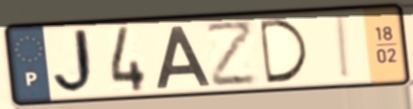4: (108, 23, 150, 96)
A: (154, 23, 213, 91)
D: (256, 17, 312, 86)
I: (335, 13, 354, 82)
J: (51, 26, 102, 98)
Z: (203, 17, 261, 90)
